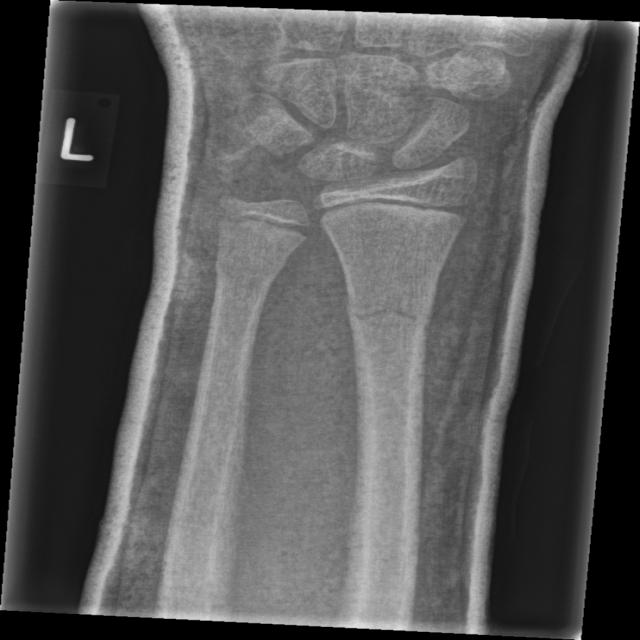radius fracture: (340, 266, 459, 403)
